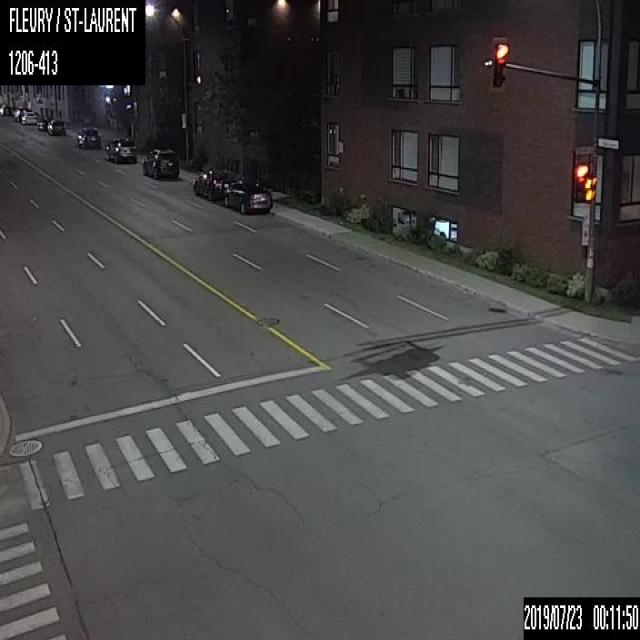vehicle: (224, 180, 271, 212), (193, 170, 237, 200), (142, 147, 178, 177), (105, 137, 136, 163), (76, 127, 101, 149), (46, 118, 64, 134), (13, 105, 28, 121), (21, 110, 36, 124), (36, 115, 47, 130), (0, 101, 5, 115)
